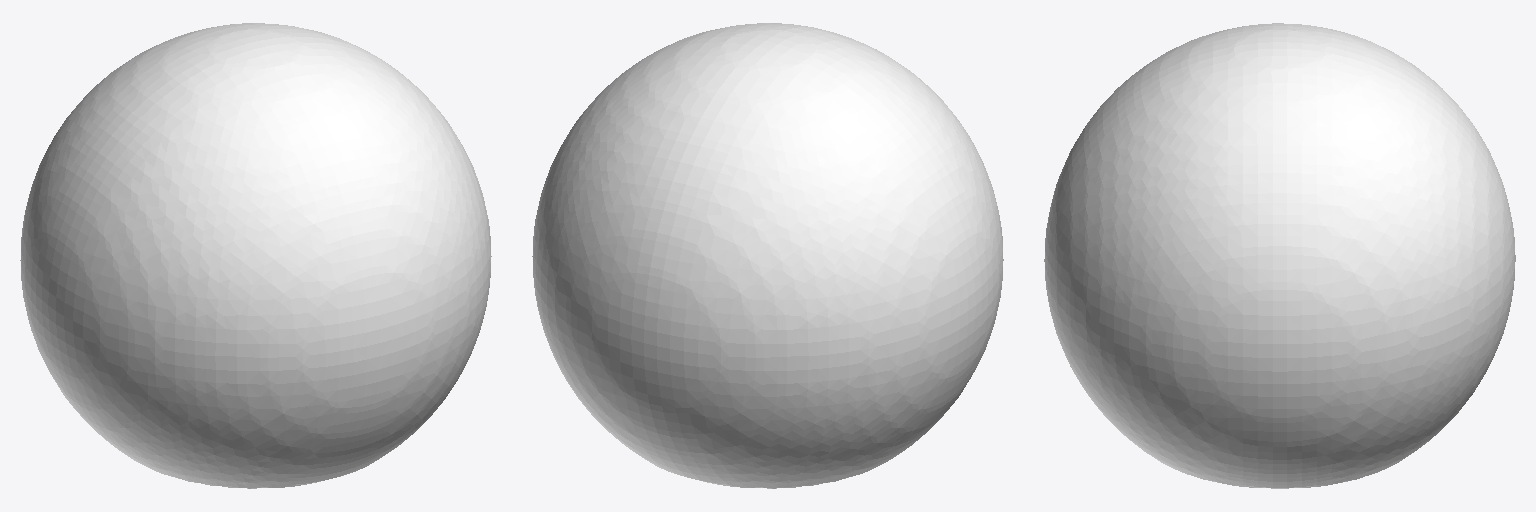
The robot description file, URDF, robot "custom":
<?xml version="1.0"?>
<robot name="custom">
  <material name="Blanc">
    <color rgba="1.0 1.0 1.0 1.0"/>
  </material>
  <link name="base_link">
    <visual>
      <origin xyz="0 0 0" rpy="0 0 0"/>
      <geometry>
        <mesh filename="handoff_sphere_large.obj" scale="1 1 1"/>
      </geometry>
      <material name="Blanc"/>
    </visual>
    <collision>
      <origin xyz="0 0 0" rpy="0 0 0"/>
      <geometry>
	 	     <mesh filename="handoff_sphere_large.obj" scale="1 1 1"/>
      </geometry>
    </collision>
    <contact>
      <lateral_friction value="5.0"/>
      <rolling_friction value="0.0001"/>
      <inertia_scaling value="3.0"/>
    </contact>
    <inertial>
      <origin rpy="0 0 0" xyz="0 0 0"/>
       <mass value="0.05"/>
       <inertia ixx="1" ixy="0" ixz="0" iyy="1" iyz="0" izz="1"/>
    </inertial>
  </link>

</robot>

--- Render facts (derived) ---
The picture shows the robot from 3 angles, left to right: view 1: azimuth 30°, elevation 25°; view 2: azimuth 150°, elevation 25°; view 3: azimuth 270°, elevation 25°; orthographic projection.
Robot: custom — 1 links, 0 joints (none); root link base_link; default pose: all joints at 0.
Visible links, largest first — view 1: base_link; view 2: base_link; view 3: base_link.
Link boxes in pixels (x1=…): base_link: x1=20, y1=23, x2=491, y2=488; base_link: x1=532, y1=23, x2=1003, y2=488; base_link: x1=1044, y1=23, x2=1515, y2=488.
Bounding box of the posed robot: 0.1161 × 0.1161 × 0.105 m (x, y, z).
1 mesh visuals loaded from 1 distinct referenced files (1 OBJ).
